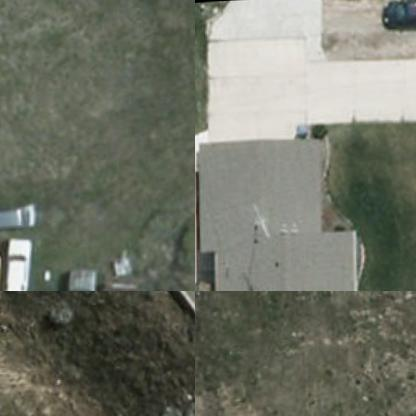car: (0, 238, 40, 290), (50, 264, 101, 290), (380, 0, 415, 26)
